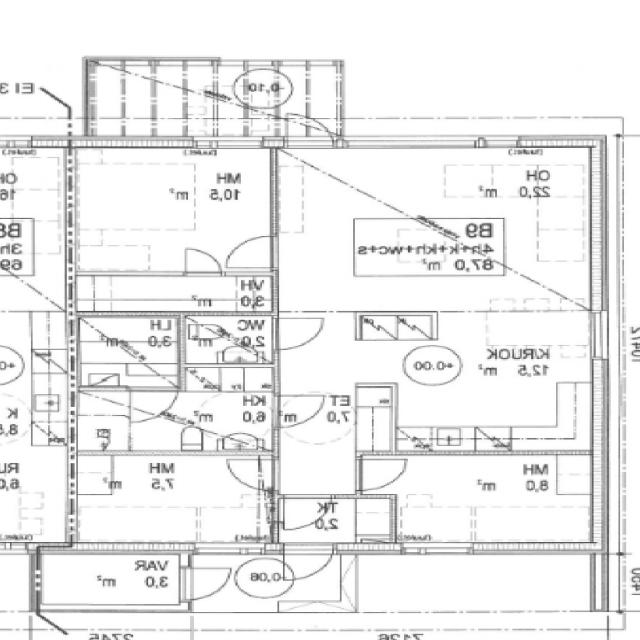door: (284, 543, 334, 589), (287, 104, 334, 147), (180, 568, 238, 601), (223, 459, 279, 491), (356, 459, 409, 492), (271, 396, 325, 428), (284, 495, 332, 531), (225, 236, 279, 267), (271, 319, 324, 349), (135, 386, 178, 421), (184, 246, 222, 276)
